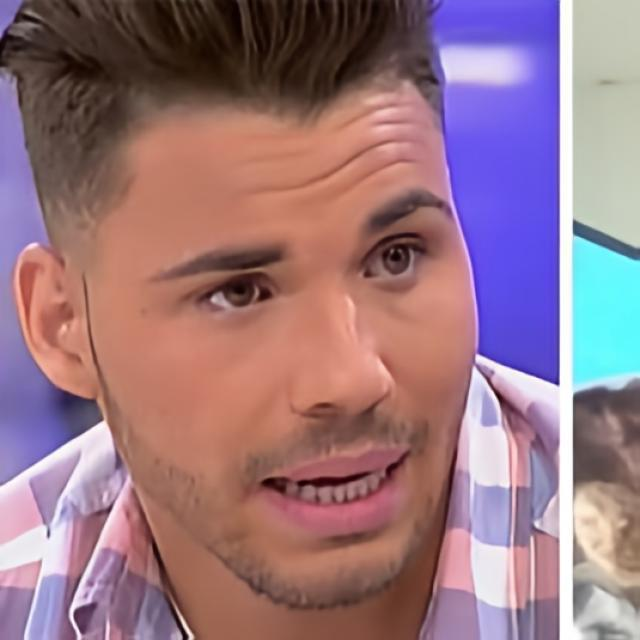surprise: (96, 2, 482, 612)
